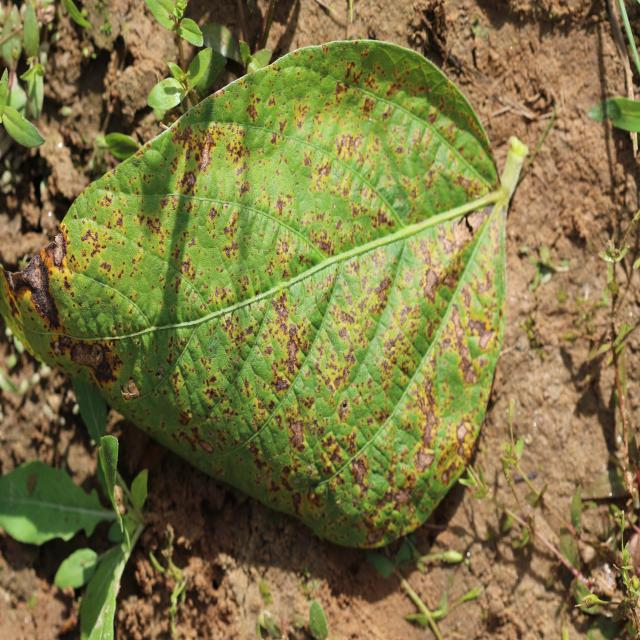Bacterial_Blight: (330, 104, 427, 234), (169, 177, 246, 294), (266, 281, 312, 404), (407, 225, 473, 297), (346, 253, 397, 336), (404, 374, 443, 446), (445, 303, 483, 375), (60, 341, 117, 386), (24, 267, 58, 324), (43, 230, 68, 268), (197, 132, 216, 173), (414, 447, 434, 472), (180, 170, 198, 193), (456, 423, 469, 443), (198, 439, 214, 454), (155, 369, 163, 378), (342, 400, 348, 409)
Soybean: (0, 40, 526, 548)
